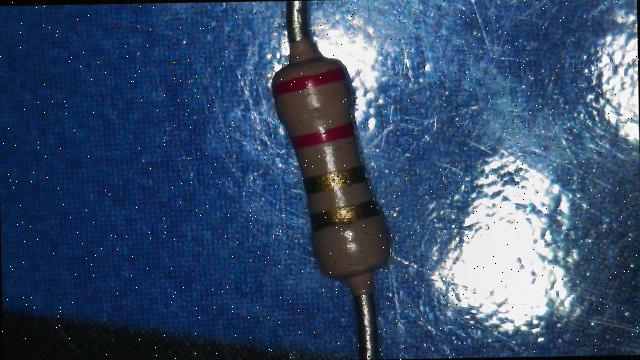gold: (312, 199, 380, 230), (304, 165, 366, 192)
red: (272, 66, 347, 98), (292, 122, 356, 150)
resistor: (247, 33, 422, 301)
